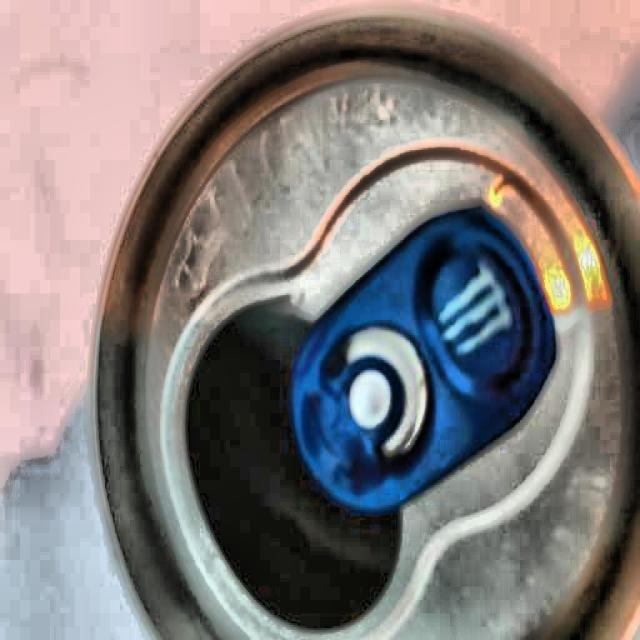metal: (96, 12, 640, 638)
